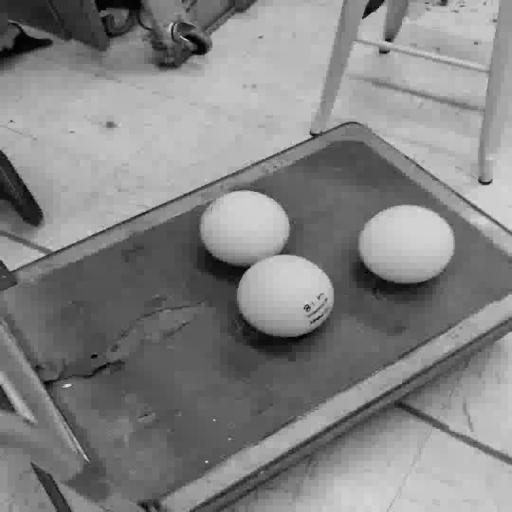fuel: (237, 255, 334, 337), (359, 206, 454, 283), (200, 191, 290, 267)
